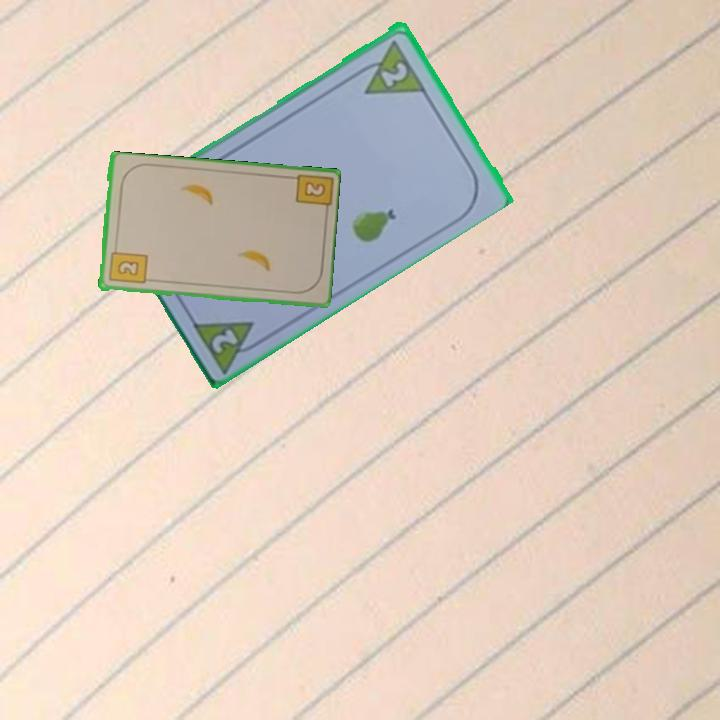2b: (105, 242, 149, 287), (300, 178, 328, 200)
2p: (377, 57, 411, 89), (207, 324, 241, 356)
